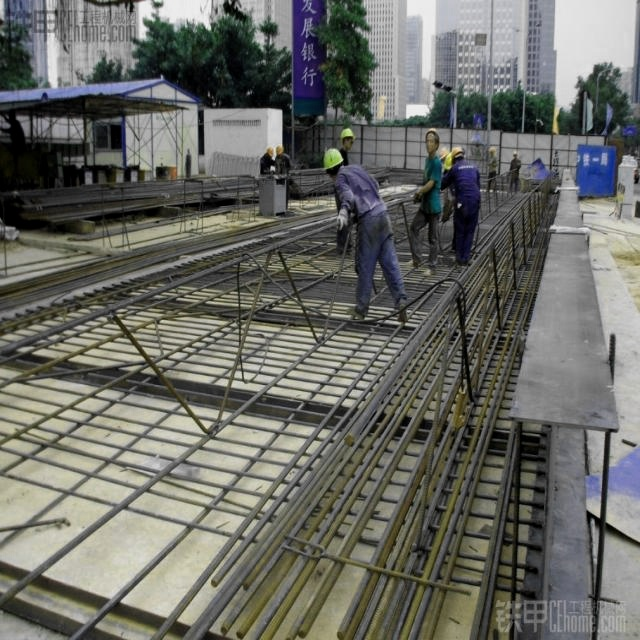Con_Casco: (322, 145, 344, 180)
Sin_Chaleco: (418, 156, 442, 214)
